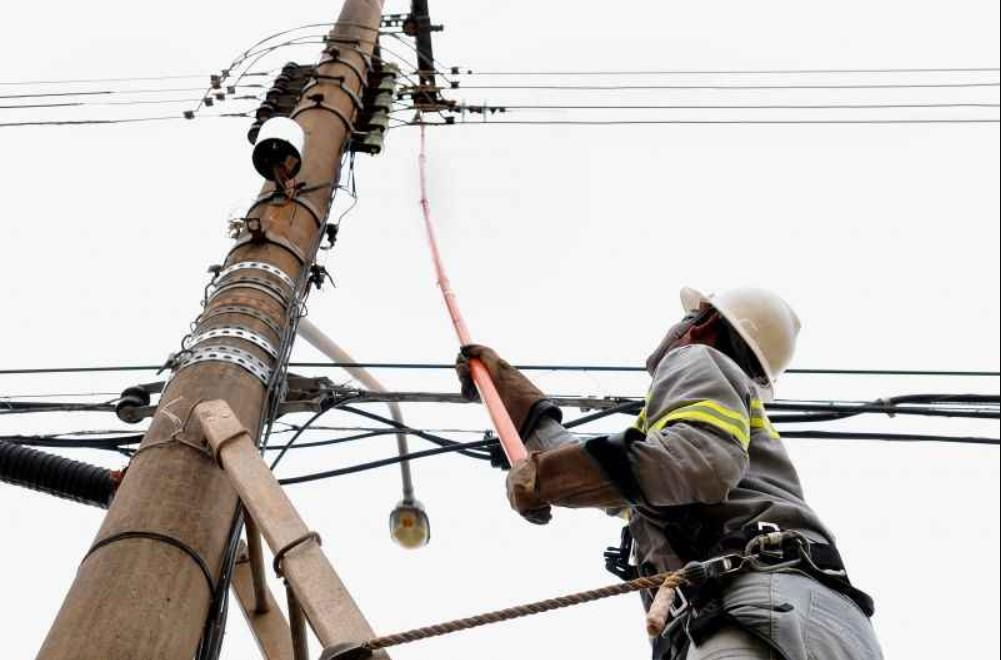Vara_Manobra: (415, 119, 533, 492)
